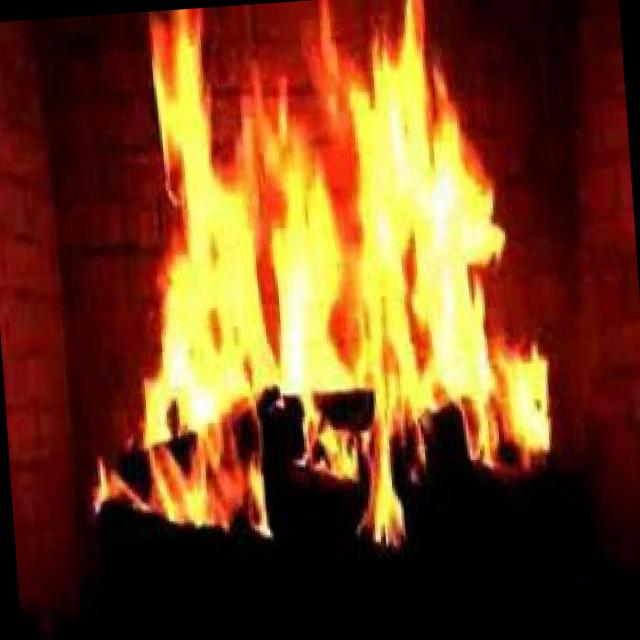Fire: (41, 0, 567, 576)
